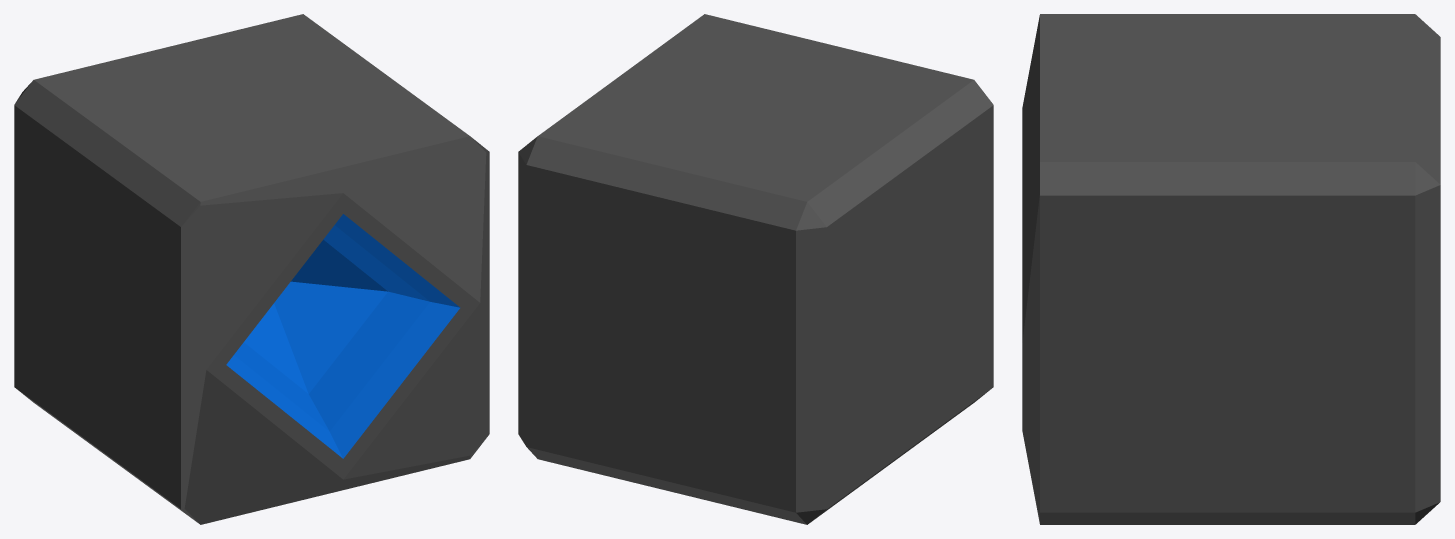
The model's file is LazerBox.fbx.
3 views of the same model, side by side, from view 1: azimuth 30°, elevation 25°; view 2: azimuth 150°, elevation 25°; view 3: azimuth 270°, elevation 25° (orthographic). The views are drawn at different scales.
Visible parts, largest first — view 1: Cube; view 2: Cube; view 3: Cube.
Boxes of the visible parts, <box> form: Cube: <box>14,14,489,524</box>; Cube: <box>518,14,993,524</box>; Cube: <box>1022,14,1440,524</box>.
Bounding box in the file's own units: 200 × 200 × 209.
